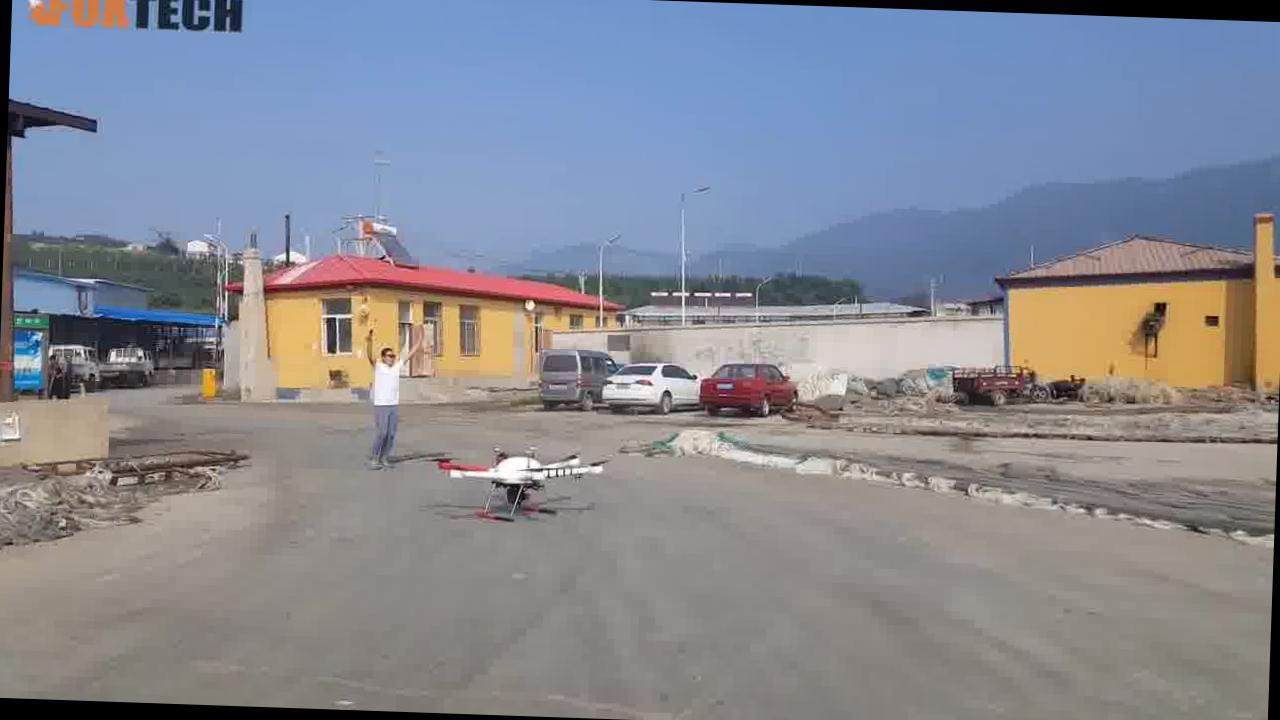drone: (431, 444, 610, 526)
